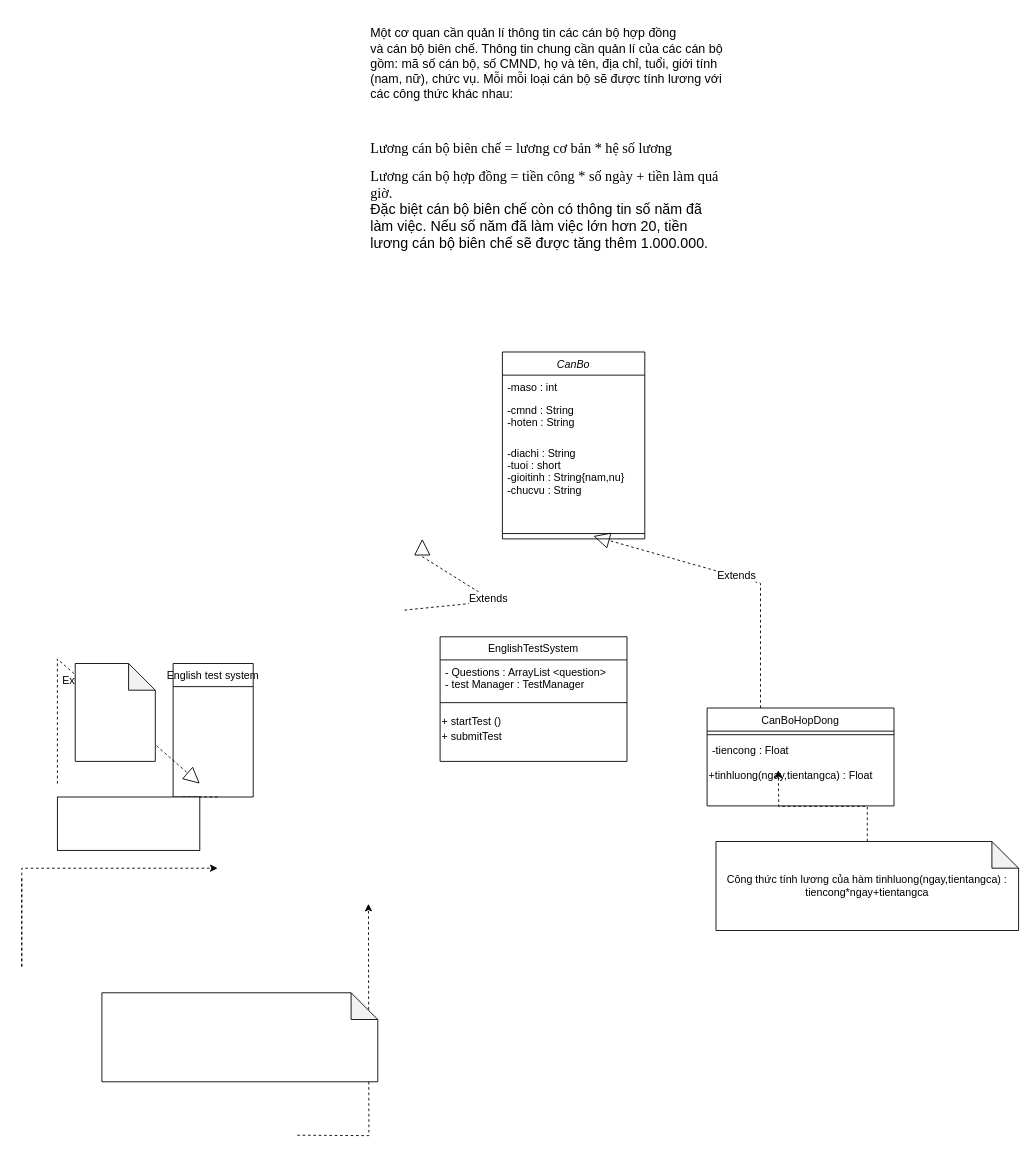
Some shapes in this 1034 by 1158 pixel diagram are drawn without their labels. The shapes that lost their labels are listed below. From the top down, each one's centre as x and y in pixels, then its label:
At point (114, 712): "Nếu số năm làm việc > 20 thì lương tăng thêm 1 triệu".
At point (128, 823): "USER".
At point (239, 1037): "Công thức tính lương của hàm tinhluong() : luongcoban*hesoluong".
